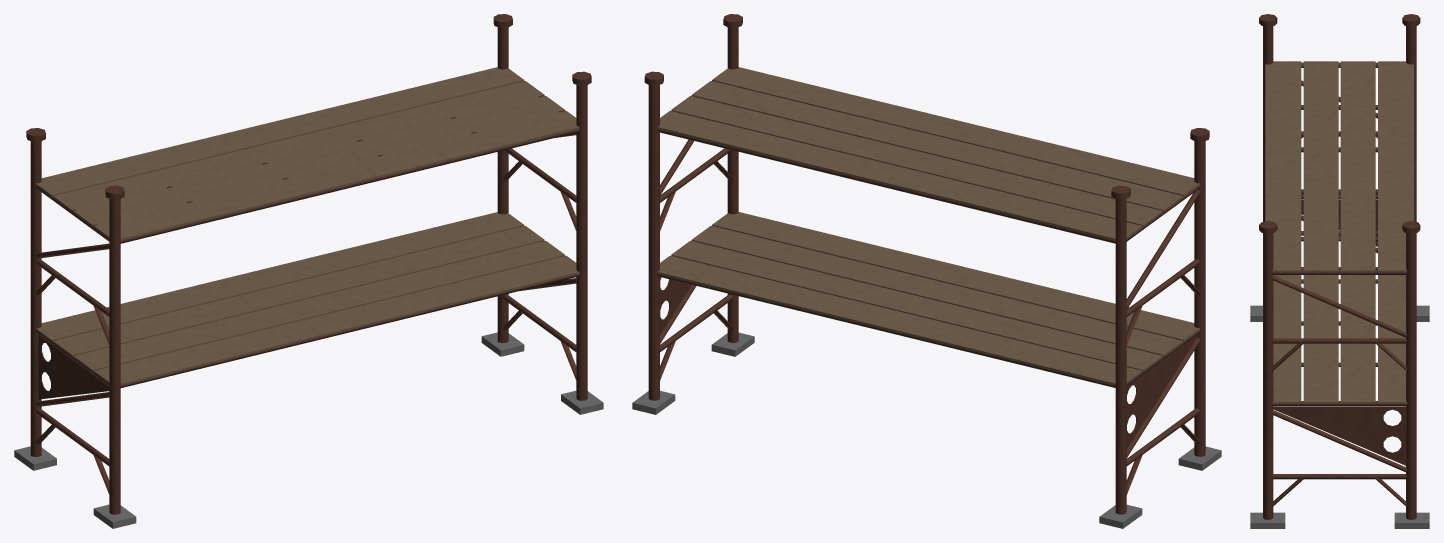
File: LargeMetalShelvingTwoLayers.fbx
3 views of the same model, side by side, from view 1: azimuth 30°, elevation 25°; view 2: azimuth 150°, elevation 25°; view 3: azimuth 270°, elevation 25° (orthographic). The views are drawn at different scales.
Visible parts, largest first — view 1: Cube.058; view 2: Cube.058; view 3: Cube.058.
Part boxes in pixels (bbox=[...]): Cube.058: bbox=[14, 14, 603, 528]; Cube.058: bbox=[632, 14, 1221, 528]; Cube.058: bbox=[1250, 14, 1429, 528].
Bounding box in the file's own units: 1033 × 662 × 359.
